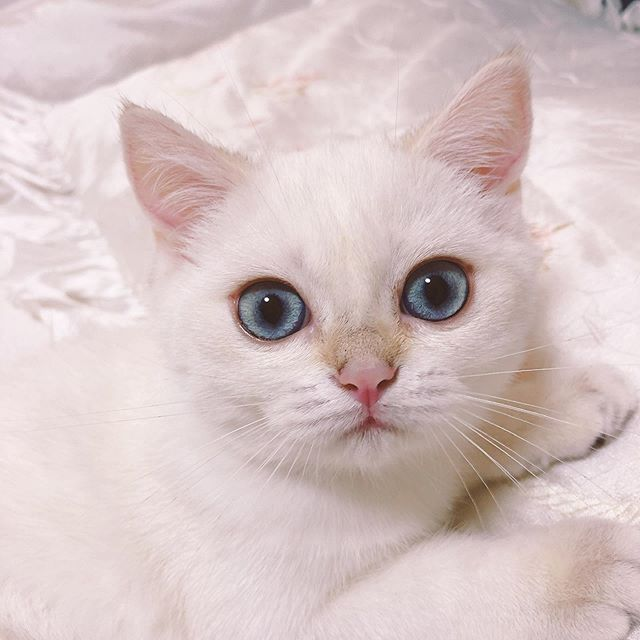cat: (111, 54, 540, 489)
